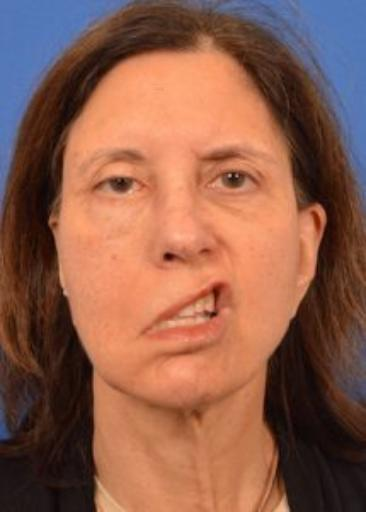left_eye: (205, 170, 261, 196)
left_lip_corner: (221, 295, 239, 316)
right_eye: (94, 177, 146, 198)
right_lip_corner: (132, 328, 154, 342)
